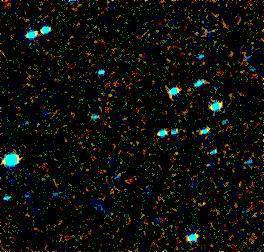star: (173, 72, 203, 102)
